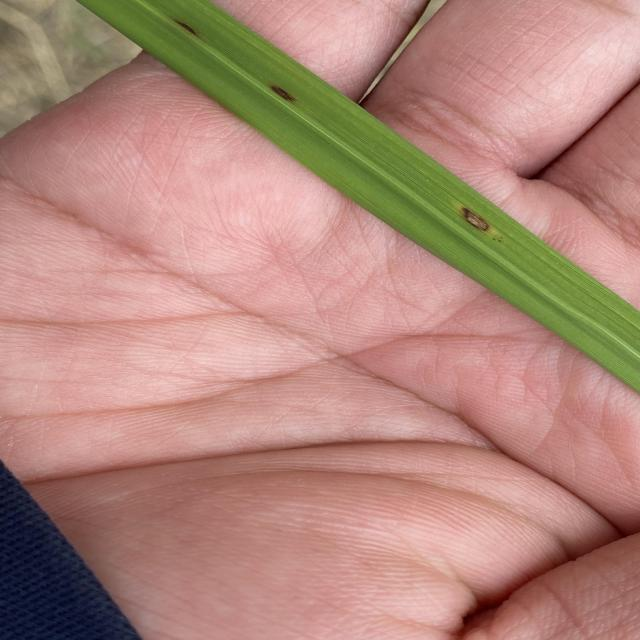Dom nau: (457, 206, 490, 233), (267, 83, 299, 104), (171, 18, 196, 37)
